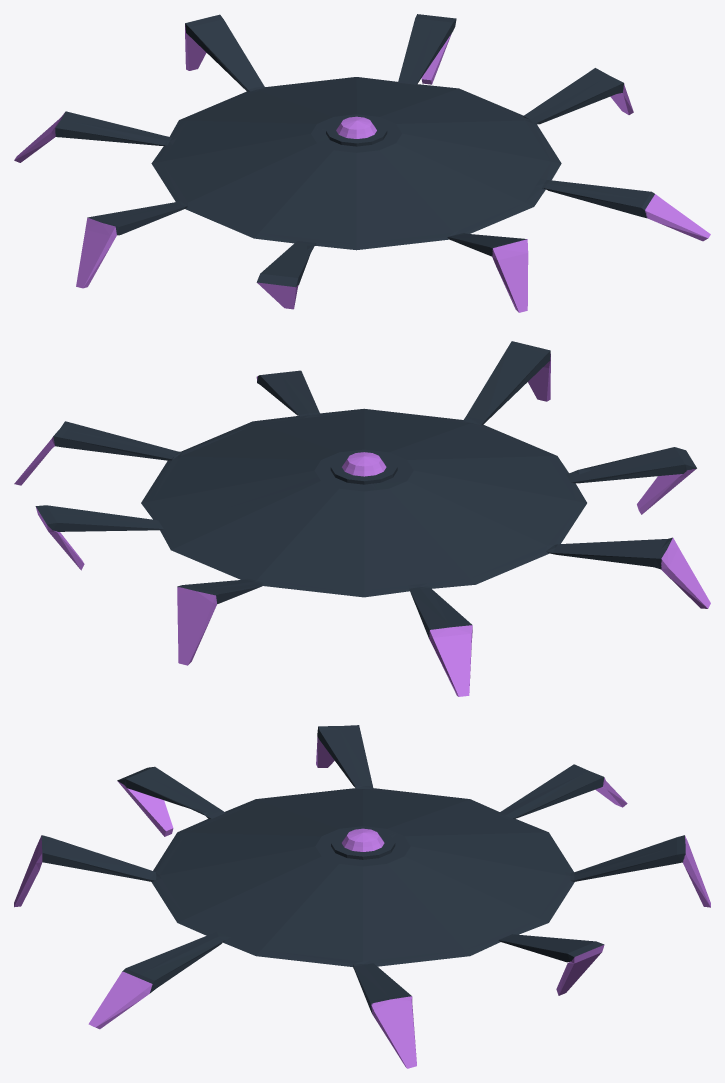
Rendered from Spider_Walk_000018.obj.
The picture shows the model from 3 angles, top to bottom: view 1: azimuth 30°, elevation 25°; view 2: azimuth 150°, elevation 25°; view 3: azimuth 270°, elevation 25°; orthographic projection. The views are drawn at different scales.
Visible parts, largest first — view 1: Circle_Circle.001; view 2: Circle_Circle.001; view 3: Circle_Circle.001.
Boxes of the visible parts, x1,y1,x2,y2 form: Circle_Circle.001: (14,14,710,312); Circle_Circle.001: (14,341,710,696); Circle_Circle.001: (14,725,710,1068).
Size of the model in its own units: 3.36 by 0.4358 by 3.25.
